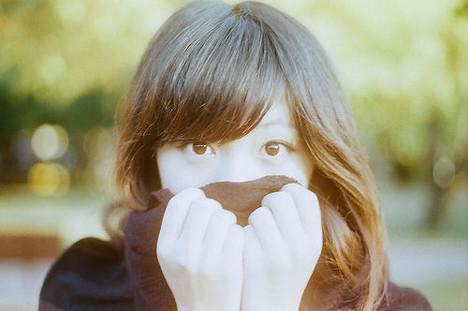WRONG: (152, 105, 301, 254)
